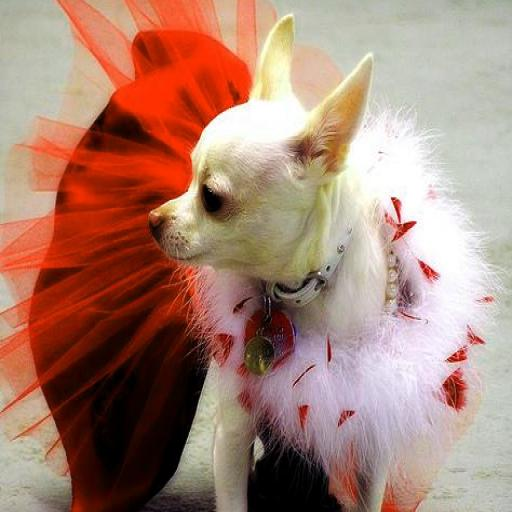dog_face: (152, 36, 366, 289)
